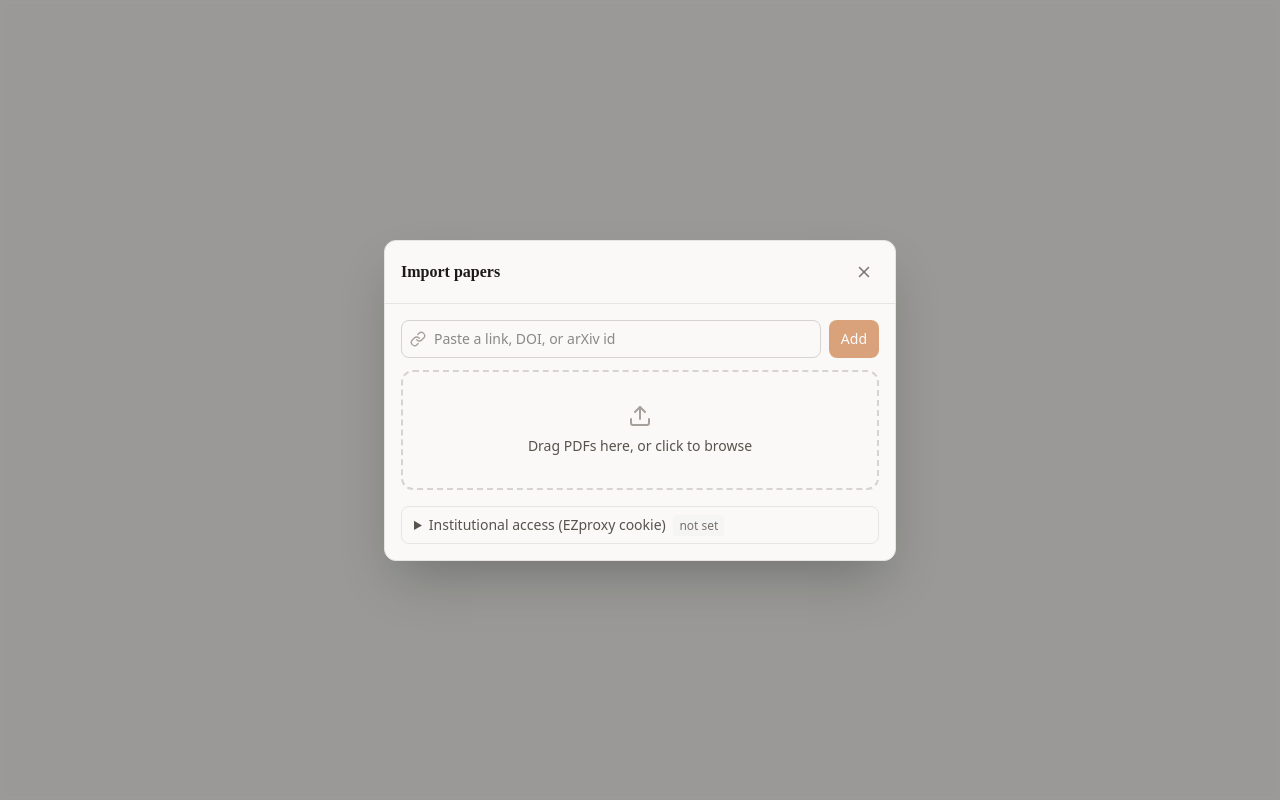
Test: proxy cookie section › a rejected save shows the error inline and keeps the typed cookie
The image size is (1280, 800).
Click the heading "Institutional access (EZproxy cookie) not set".
click(577, 525)  # box [429, 514, 724, 536]
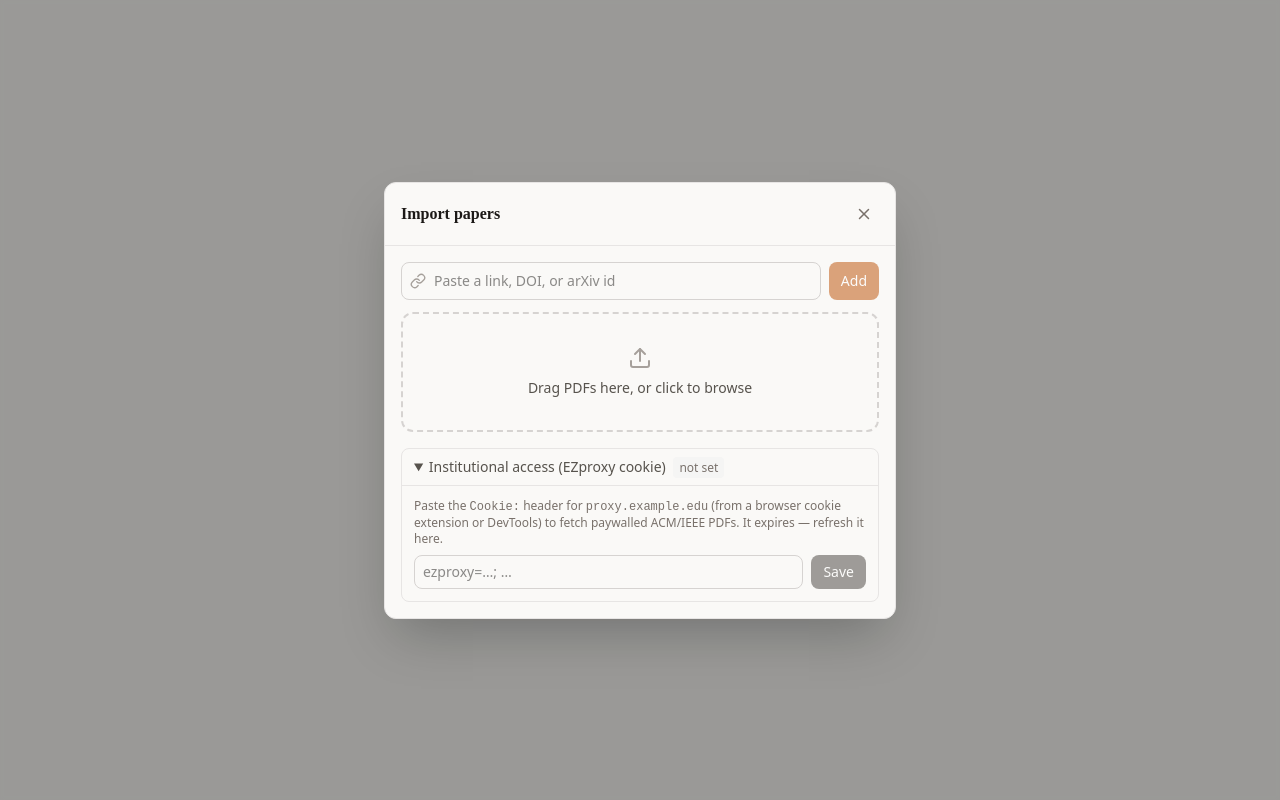
Type "ezproxy=abc" into the password field with placeholder "ezproxy=…; …".
click(609, 572); type("ezproxy=abc")  # box [414, 554, 803, 588]
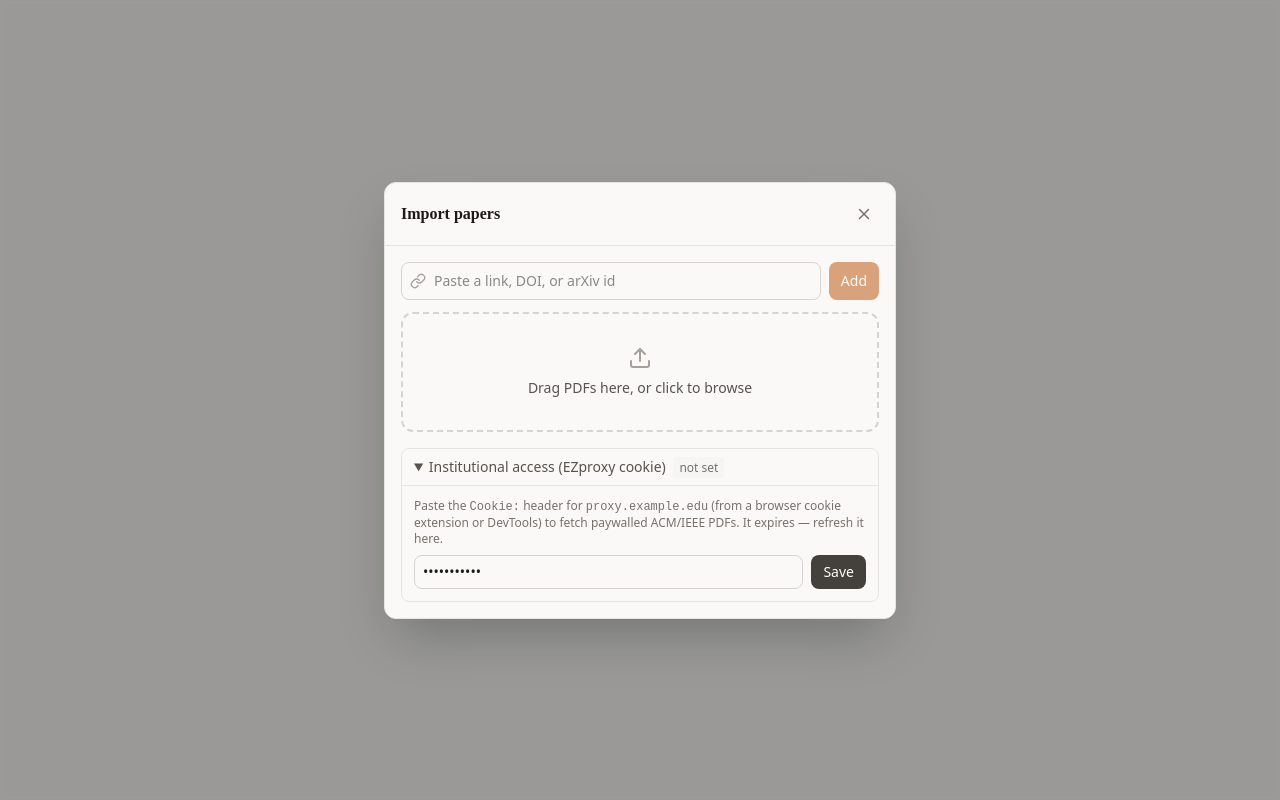
Click the button "Save".
click(839, 572)  # box [811, 554, 866, 588]
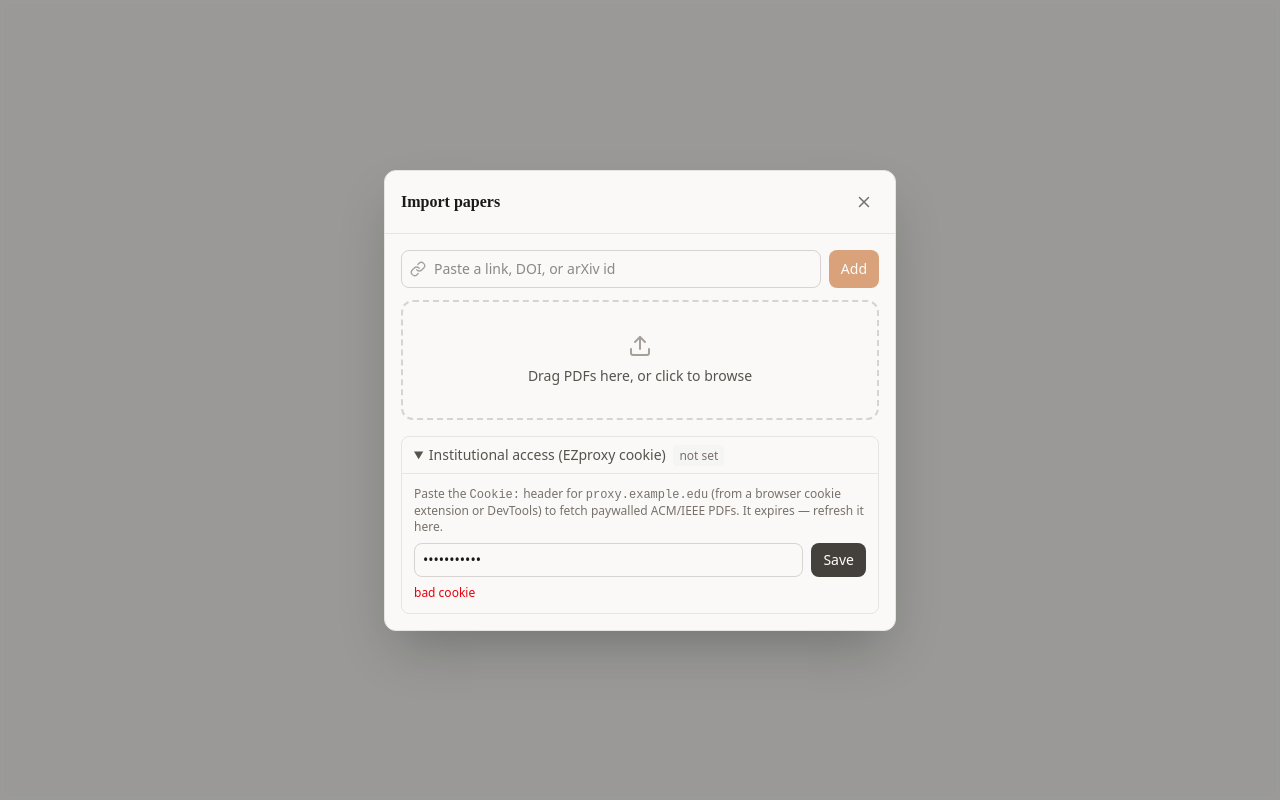
expect the text "not set" is shown: met, box [673, 444, 724, 466]
expect the text "bad cookie" is shown: met, box [414, 584, 475, 600]
